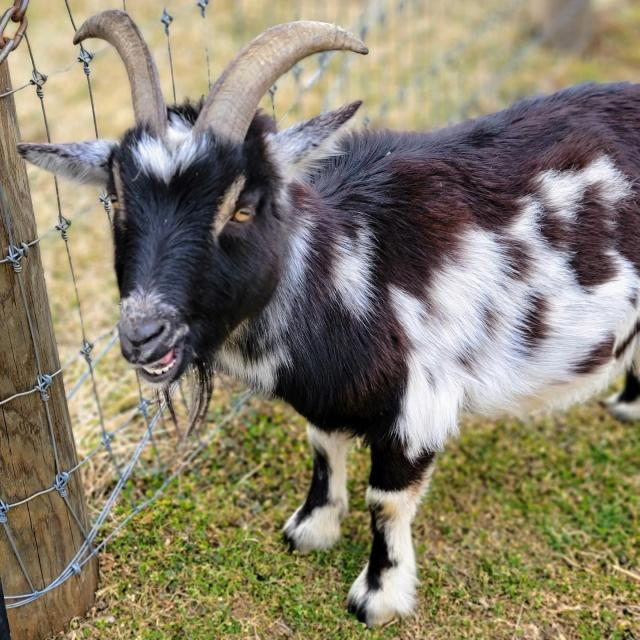goat: (1, 3, 632, 622)
